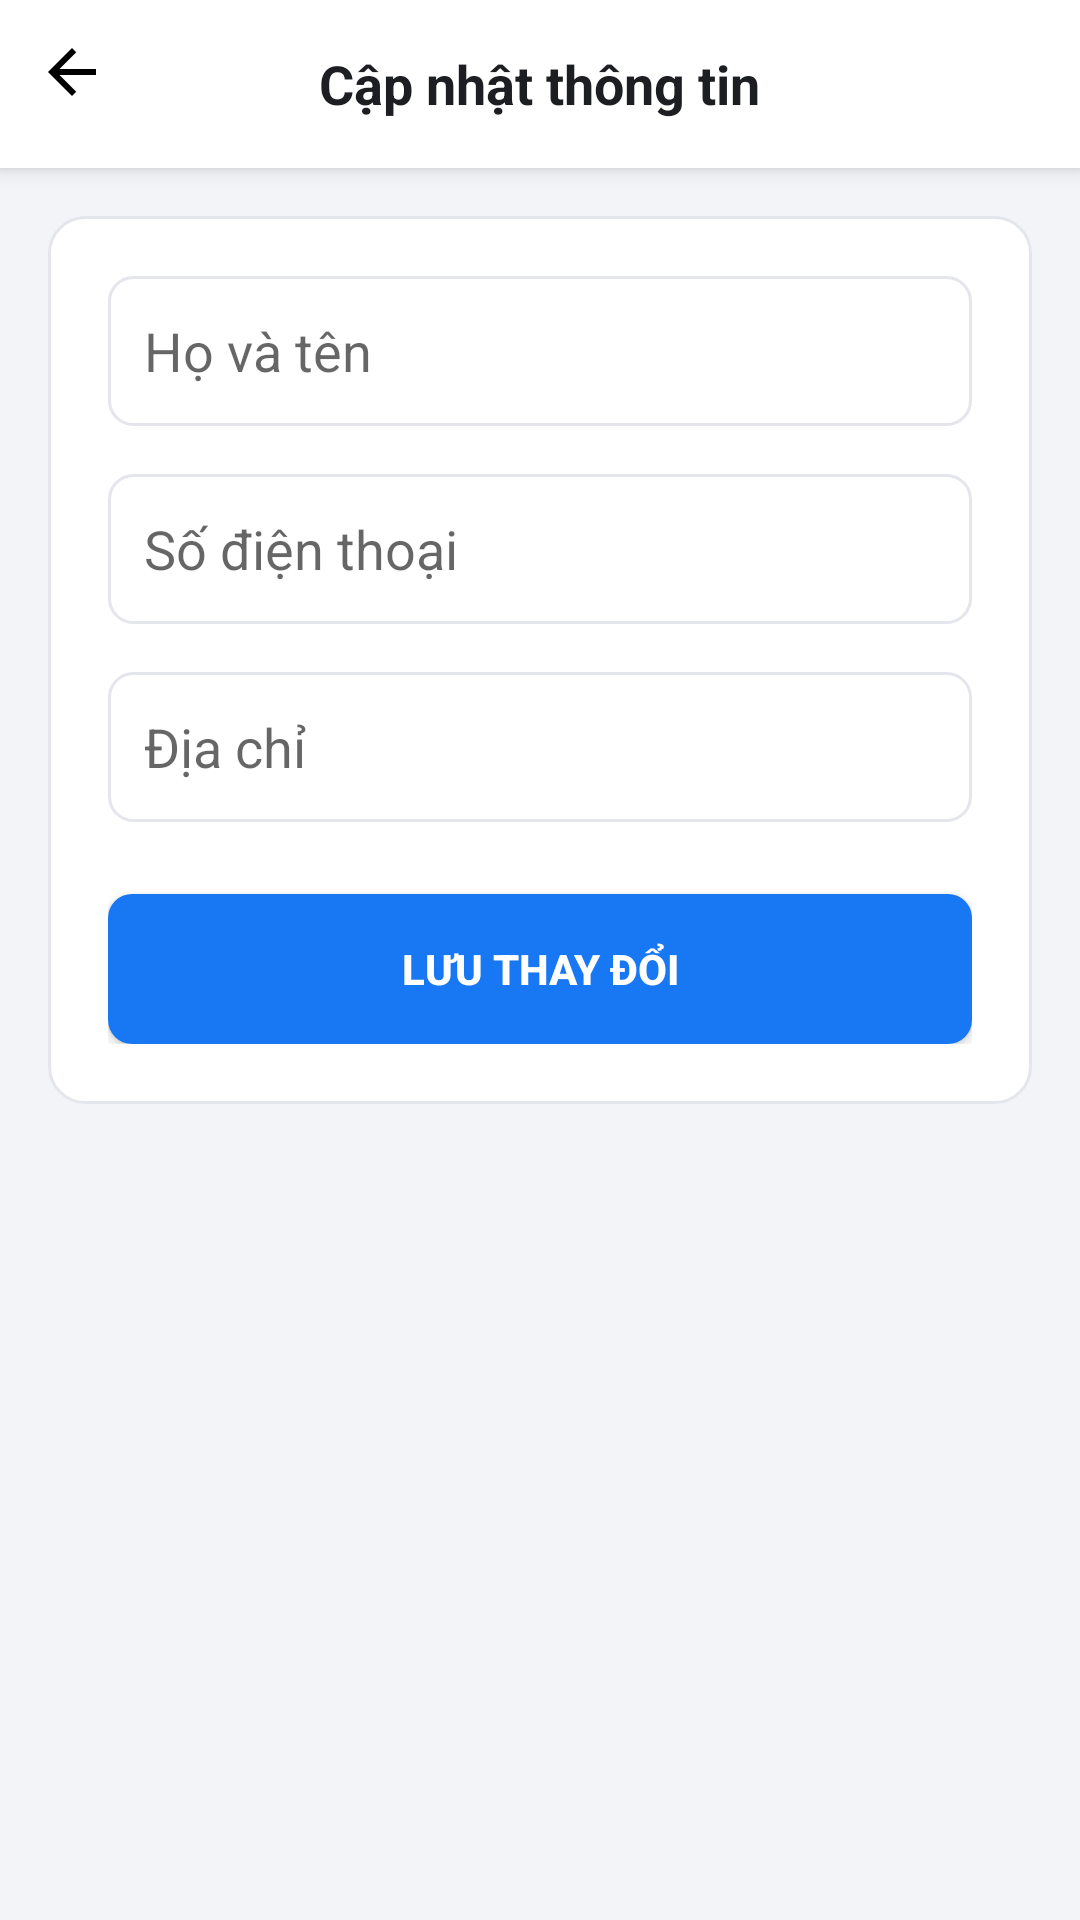

Screen size 1080w x 1920h. Icon name, then its center in pixels as point (x, y):
arrow back: point (72, 72)
